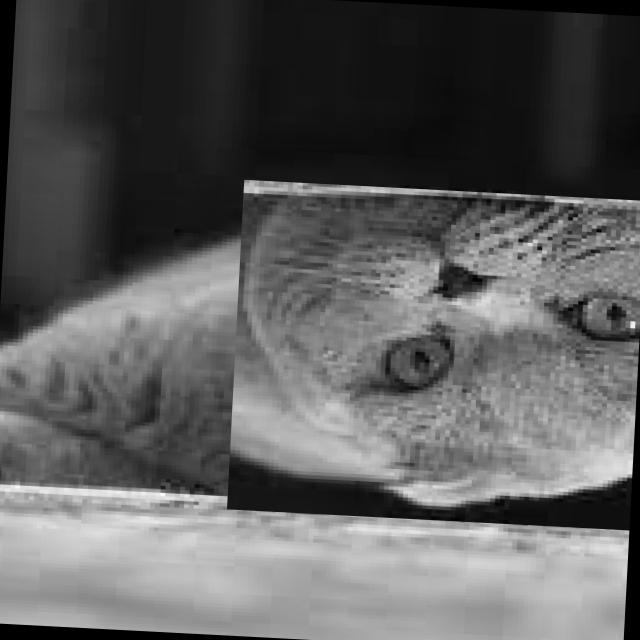scootish: (227, 179, 640, 530)
